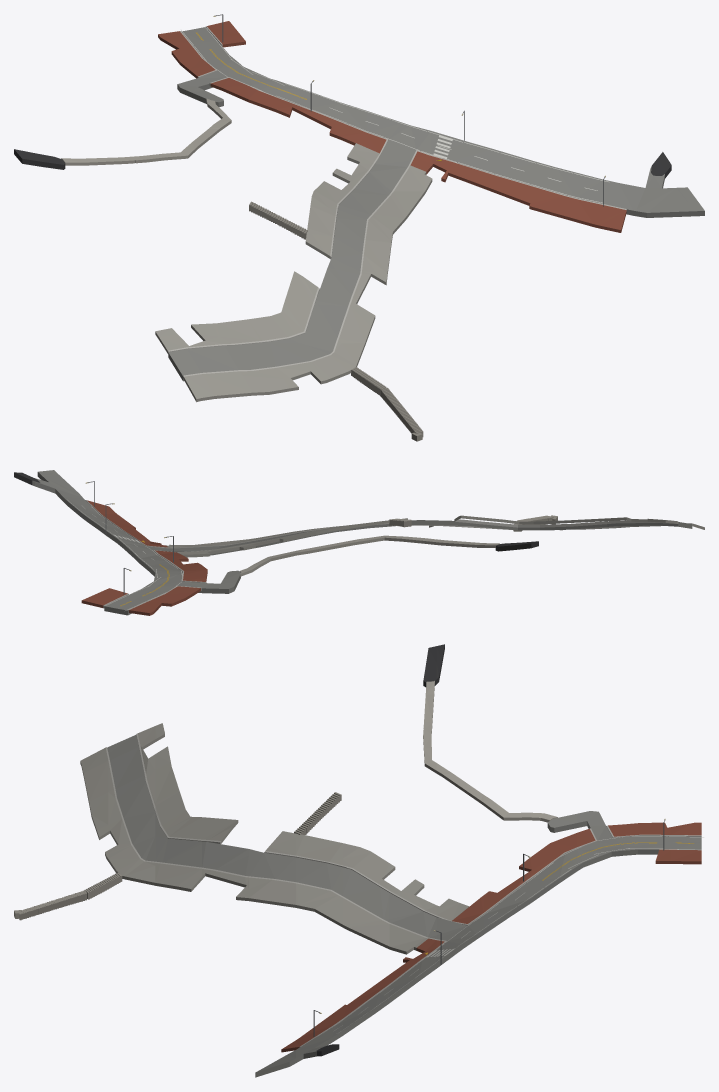
3 views of the same model, one above another, from view 1: azimuth 30°, elevation 25°; view 2: azimuth 150°, elevation 25°; view 3: azimuth 270°, elevation 25° (orthographic). The views are drawn at different scales.
Size of the model in its own units: 147 by 42.45 by 147.
